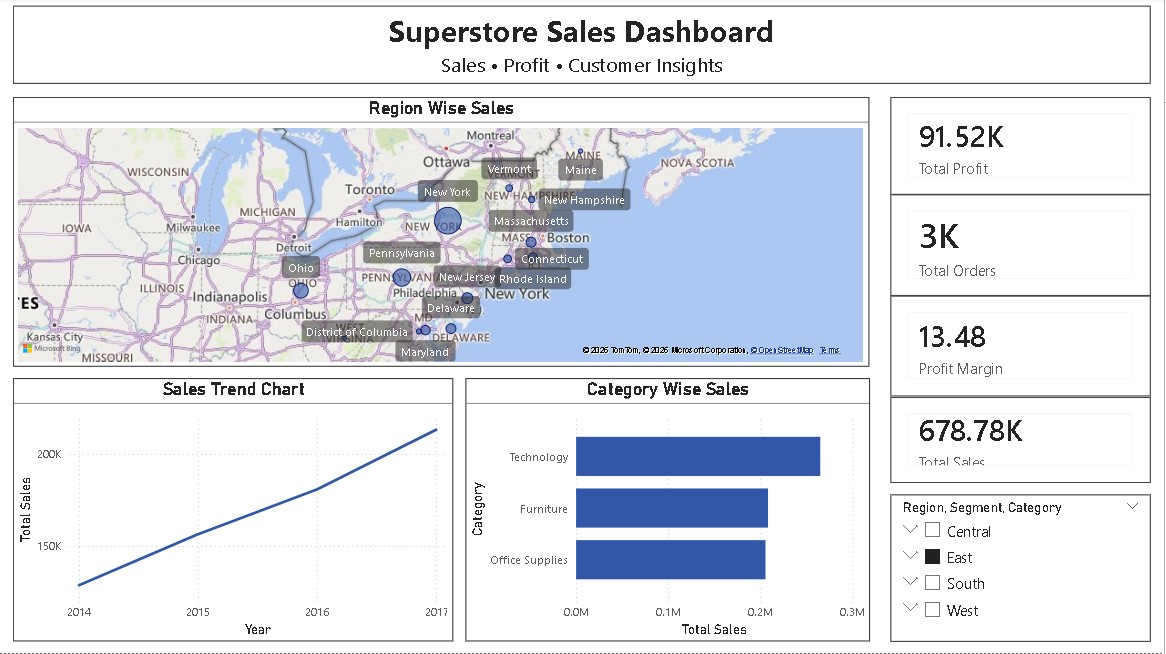

The page's visual inventory and layout, read from the dashboard file:
{"tool":"powerbi","page":{"name":"SALES OVERVIEW","canvas":[1280,720],"ordinal":0},"visuals":[{"type":"cardVisual","fields":{"Data":["Sample - Superstore.Total Sales"]},"box":[980,438.6,285.7,94.3],"z":0},{"type":"cardVisual","fields":{"Data":["Sample - Superstore.Total Profit"]},"box":[980,110,285.7,107.1],"z":1000},{"type":"cardVisual","fields":{"Data":["Sample - Superstore.Total Orders"]},"box":[980,217.1,285.7,111.4],"z":2000},{"type":"cardVisual","fields":{"Data":["Sample - Superstore.Profit Margin"]},"box":[980,328.6,285.7,110],"z":3000},{"type":"lineChart","title":"Sales Trend Chart","fields":{"Category":["Sample - Superstore.Order Date.Variation.Date Hierarchy.Year","Sample - Superstore.Order Date.Variation.Date Hierarchy.Quarter","Sample - Superstore.Order Date.Variation.Date Hierarchy.Month","Sample - Superstore.Order Date.Variation.Date Hierarchy.Day"],"Y":["Sample - Superstore.Total Sales"]},"box":[17.1,418.6,482.9,288.6],"z":4000},{"type":"clusteredBarChart","title":"Category Wise Sales","fields":{"Category":["Sample - Superstore.Category"],"Y":["Sample - Superstore.Total Sales"]},"box":[512.9,418.6,444.3,288.6],"z":5000},{"type":"map","title":"Region Wise Sales","fields":{"Category":["Sample - Superstore.State"],"Size":["Sample - Superstore.Total Sales"]},"box":[17.1,110,940,295.7],"z":6000},{"type":"slicer","fields":{"Values":["Sample - Superstore.Region","Sample - Superstore.Segment","Sample - Superstore.Category"]},"box":[980,545.7,285.7,161.4],"z":7000},{"type":"textbox","box":[17.1,10,1248.6,85.7],"z":8000}]}

Visuals, with their boxes in screenshot pixels (x1, y1, x2, y2), scaled from the page's 1280x720 canvas onto the 1166x654 screenshot:
cardVisual - Sample - Superstore.Total Sales: l=893, t=398, r=1153, b=484
cardVisual - Sample - Superstore.Total Profit: l=893, t=100, r=1153, b=197
cardVisual - Sample - Superstore.Total Orders: l=893, t=197, r=1153, b=298
cardVisual - Sample - Superstore.Profit Margin: l=893, t=298, r=1153, b=398
"Sales Trend Chart" lineChart: l=16, t=380, r=455, b=642
"Category Wise Sales" clusteredBarChart: l=467, t=380, r=872, b=642
"Region Wise Sales" map: l=16, t=100, r=872, b=369
slicer - Sample - Superstore.Region x Sample - Superstore.Segment: l=893, t=496, r=1153, b=642
textbox: l=16, t=9, r=1153, b=87
